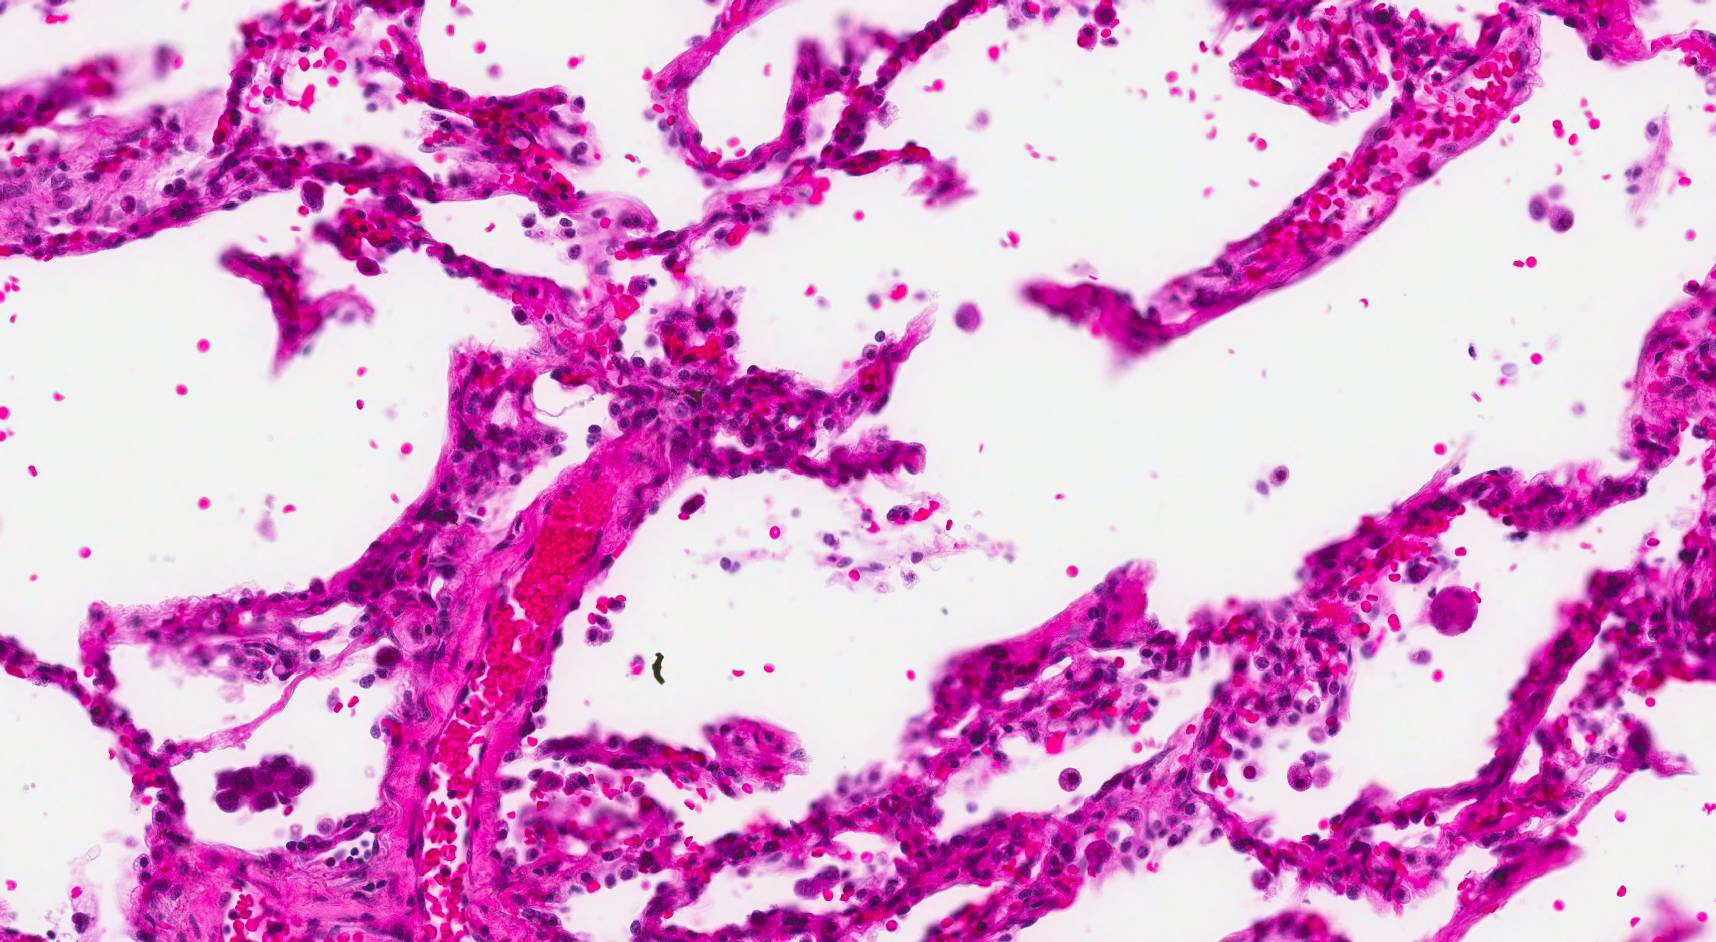stas: (211, 756, 316, 814)
